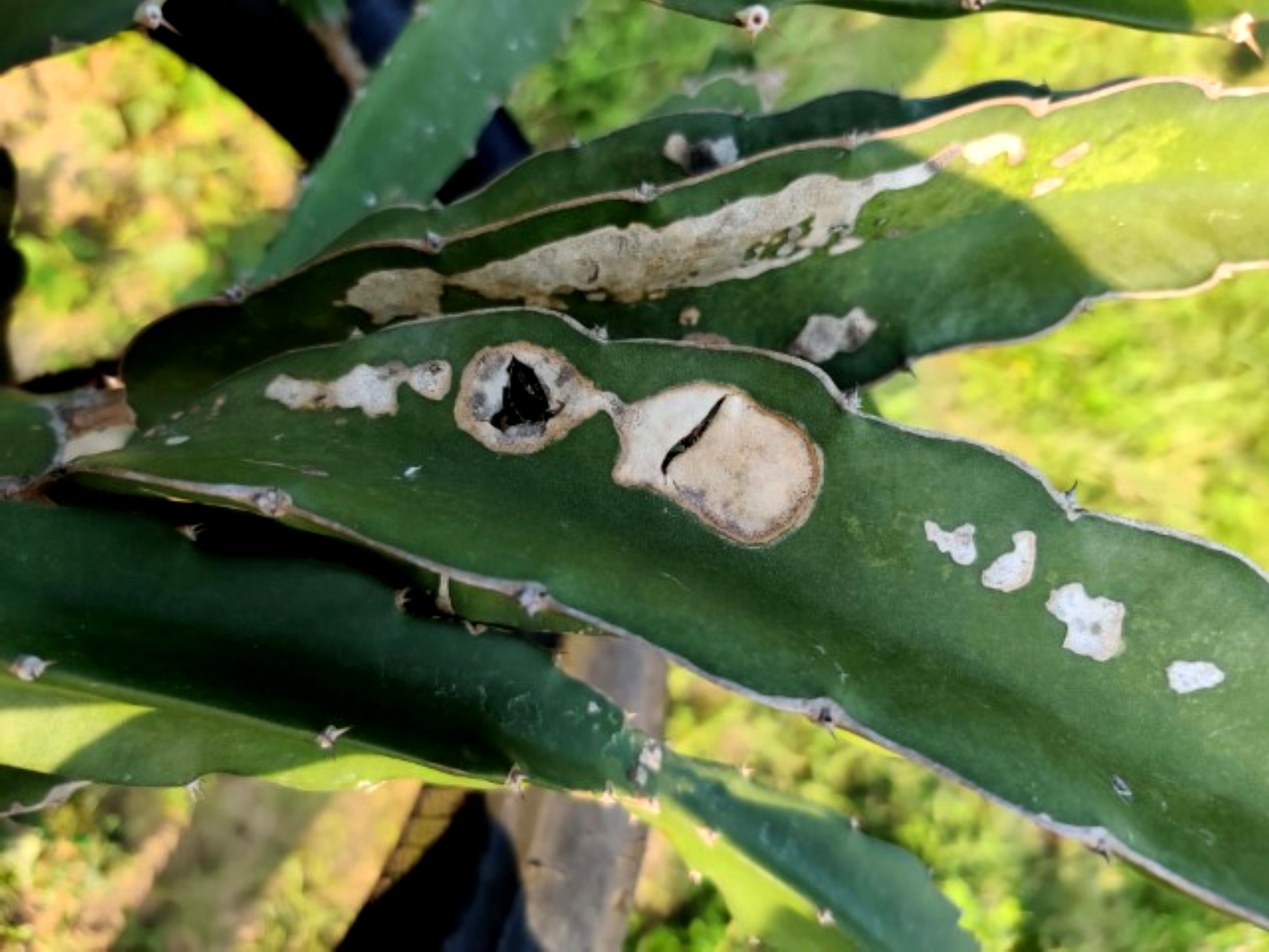stemcanker: (254, 154, 1231, 707)
